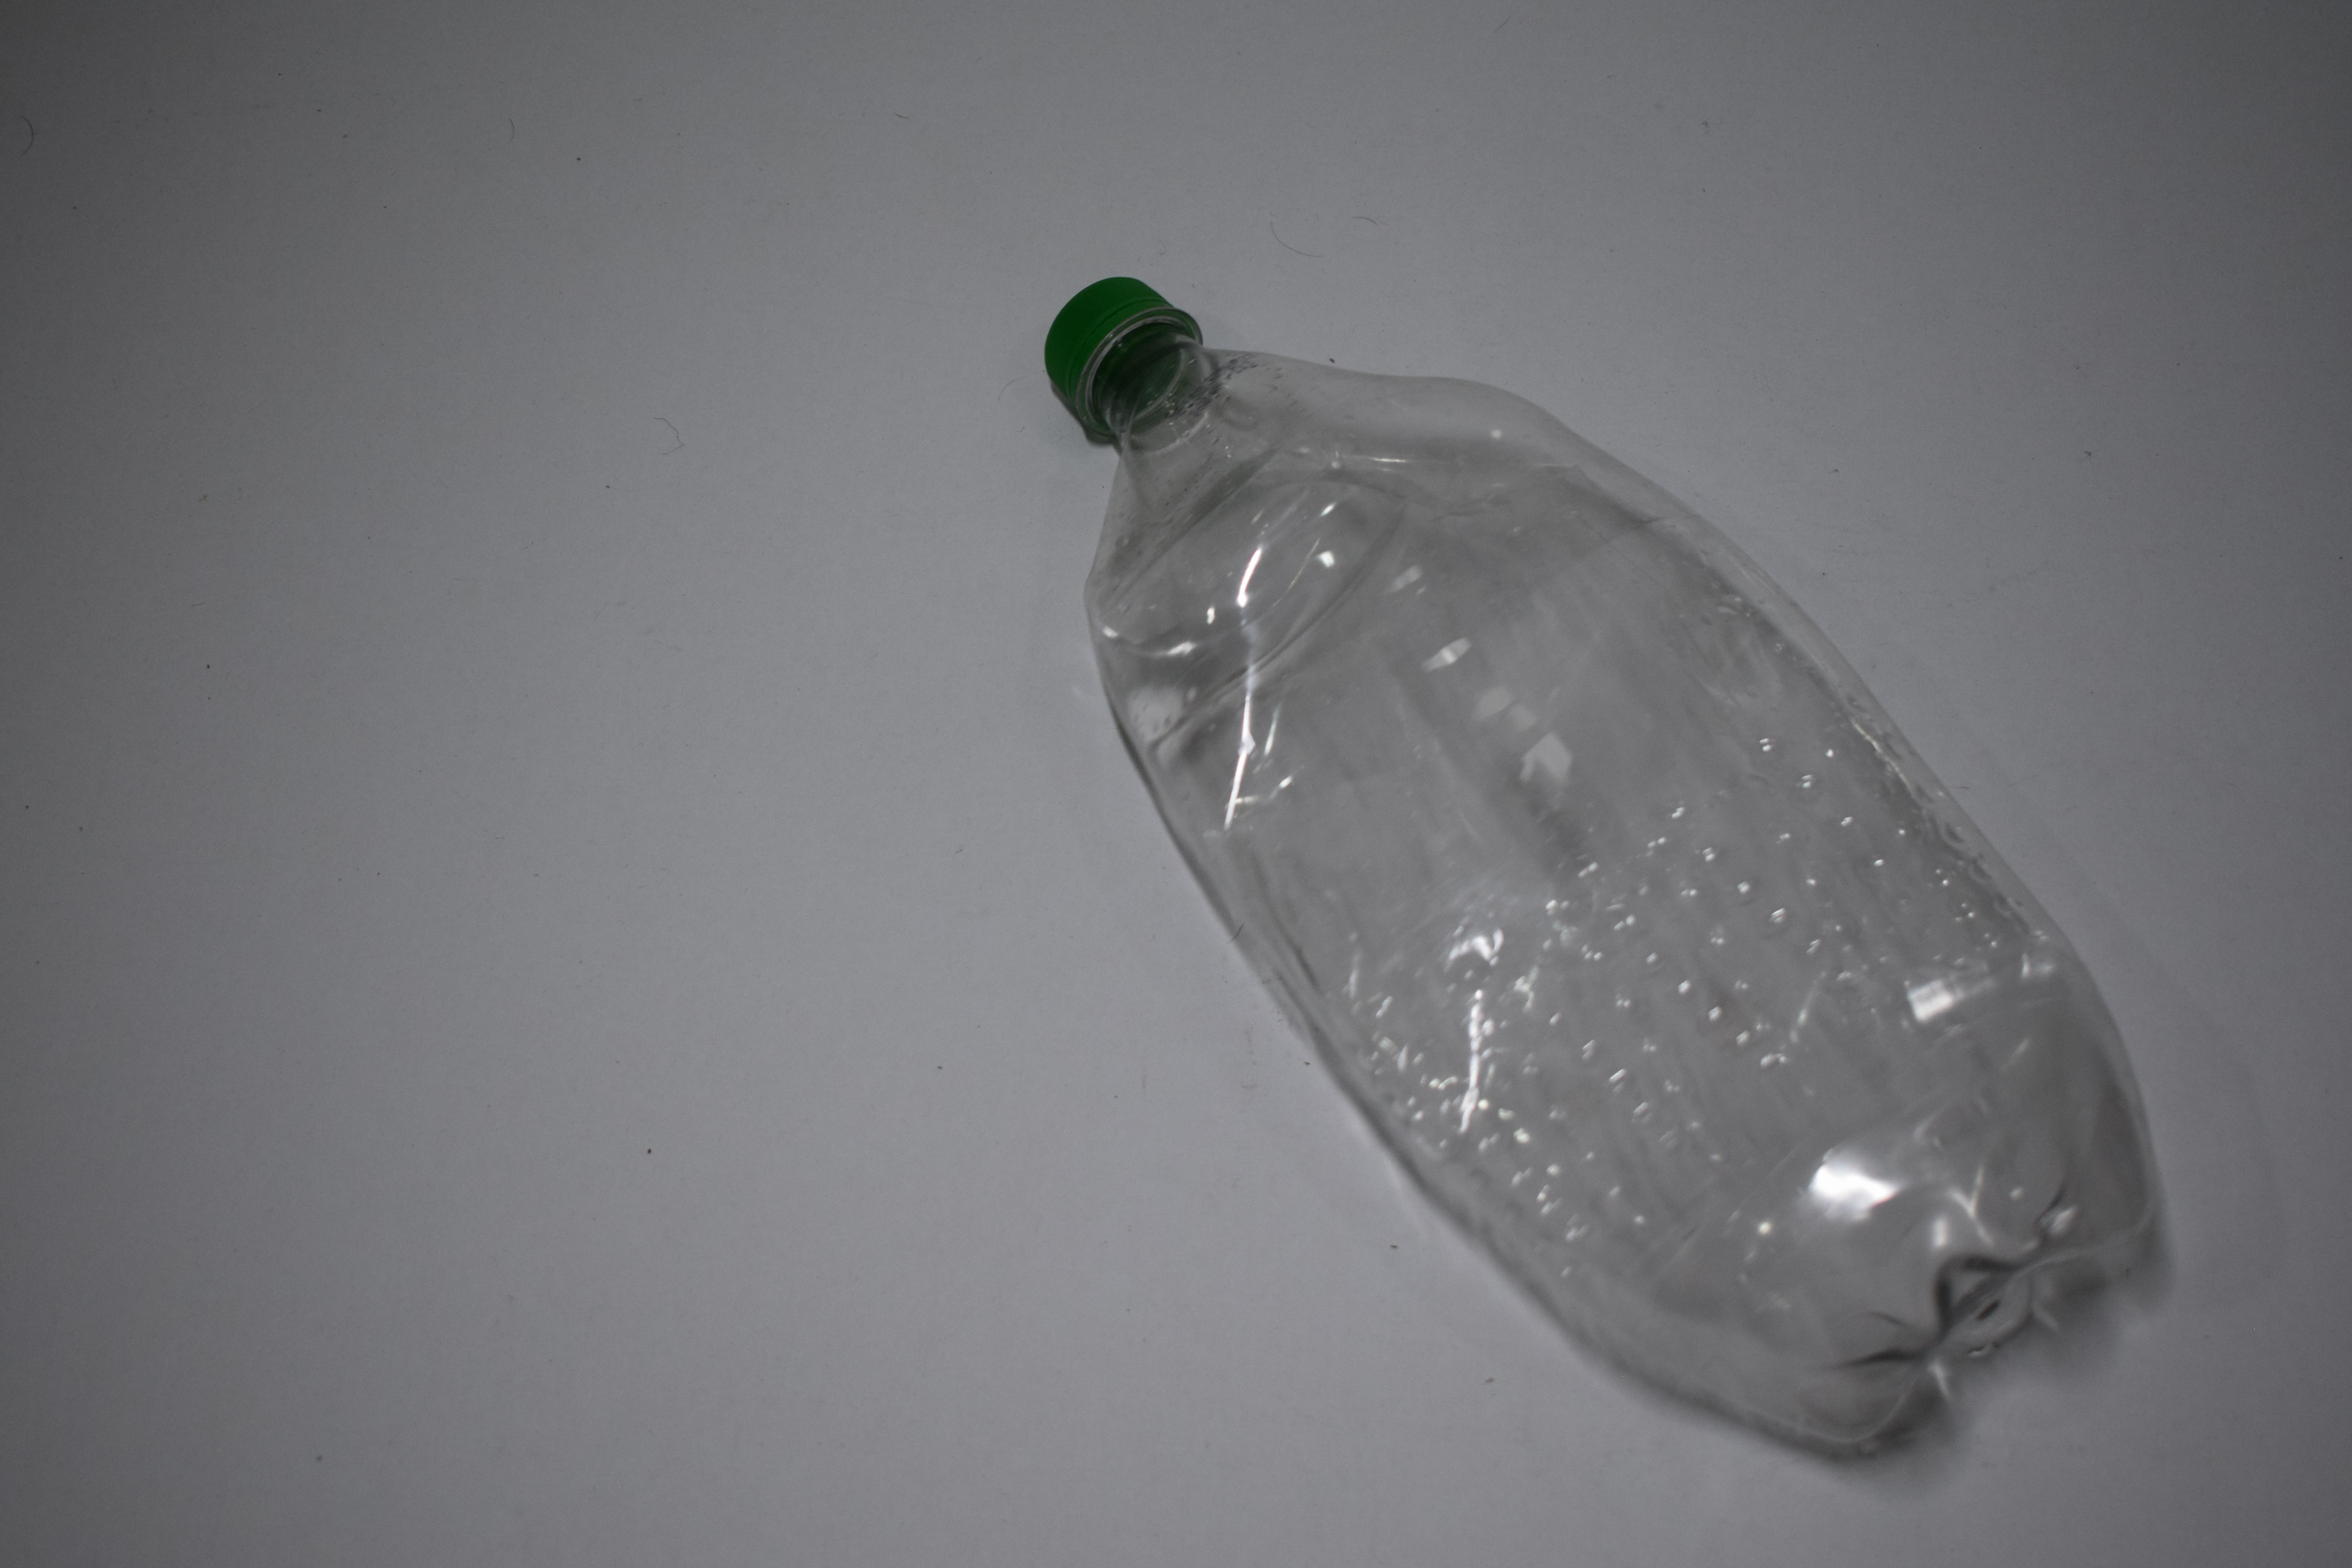bottle: (1034, 0, 2168, 607)
